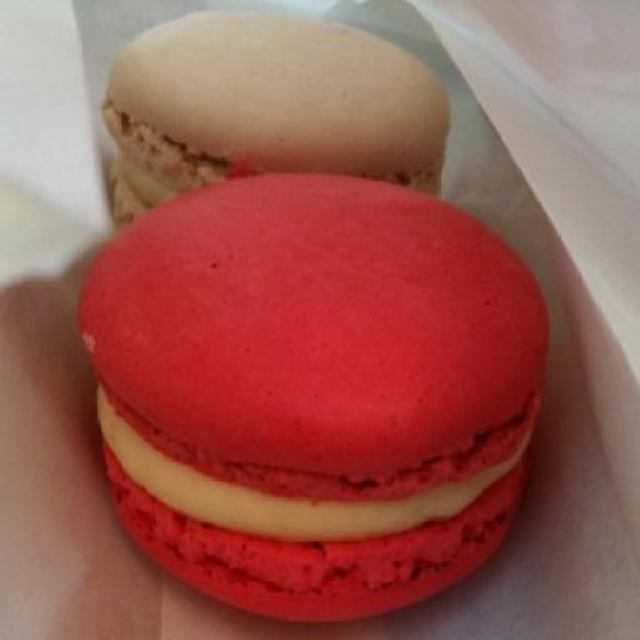Macaron: (80, 12, 574, 625)
